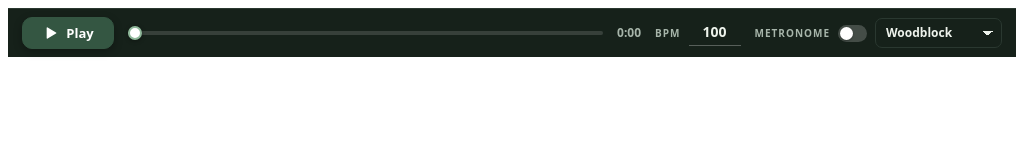
Test: Transport BPM field (rising-roll spec §2 BPM wiring) › typing an invalid BPM never commits it; blur restores the current value (Review Focus 3)
Replace the text in the number field labelled "BPM" with "5" at (714, 33), box [688,20,740,46]
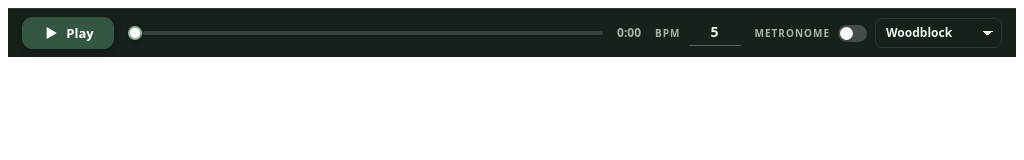
Replace the text in the number field labelled "BPM" with "1" at (714, 33), box [688,20,740,46]
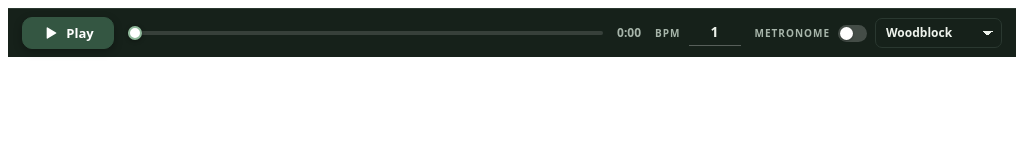
Replace the text in the number field labelled "BPM" with "1e9" at (714, 33), box [688,20,740,46]
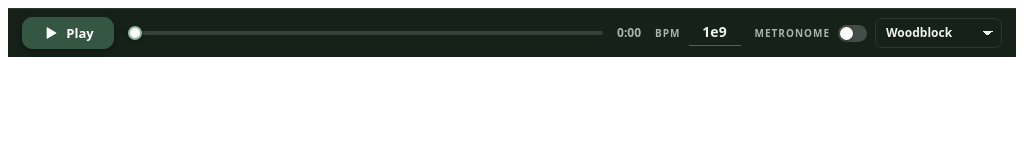
Replace the text in the number field labelled "BPM" with "301" at (714, 33), box [688,20,740,46]
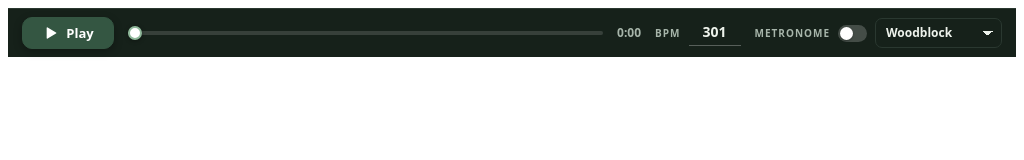
Leave the number field labelled "BPM", box [688,20,740,46]
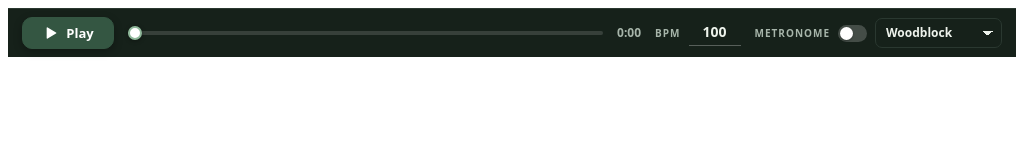
Check: the number field labelled "BPM" holds "100", box [688,20,740,46]
